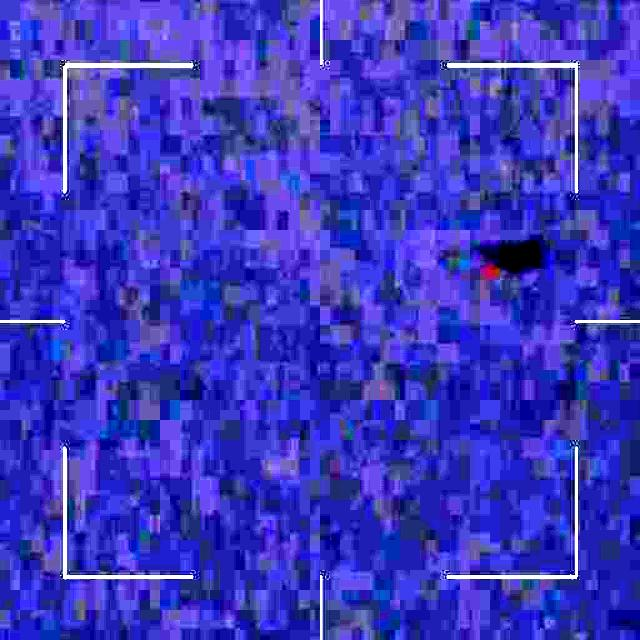bird: (461, 248, 491, 294)
